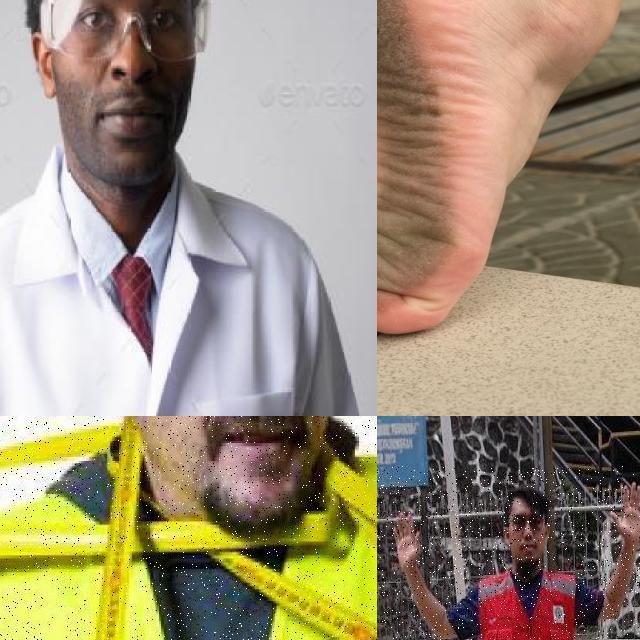Barefoots: (377, 0, 505, 350)
face_nomask: (143, 416, 324, 536), (60, 0, 199, 148)
glasses: (39, 0, 210, 67)
person: (0, 0, 377, 416), (377, 466, 640, 640)
vest: (476, 568, 584, 640)
